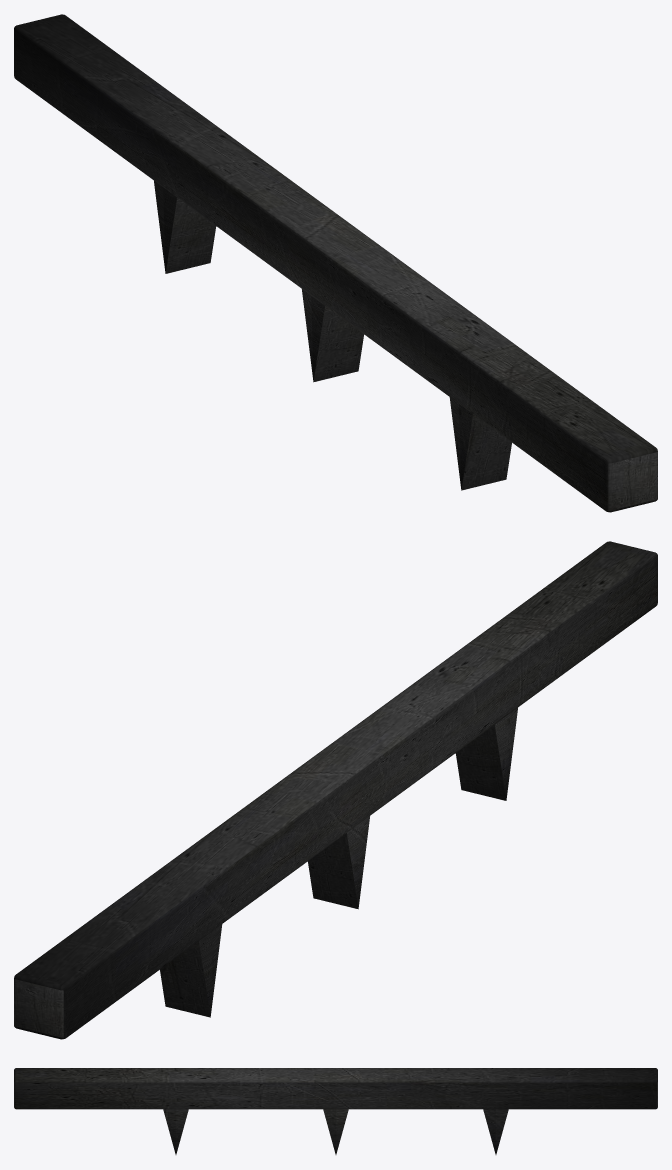
File: assets_barreraOptim.fbx
3 views of the same model, one above another, from view 1: azimuth 30°, elevation 25°; view 2: azimuth 150°, elevation 25°; view 3: azimuth 270°, elevation 25° (orthographic). The views are drawn at different scales.
Visible parts, largest first — view 1: Barrera Bumper09; view 2: Barrera Bumper09; view 3: Barrera Bumper09.
Boxes of the visible parts, bbox=[...] form: Barrera Bumper09: bbox=[14, 14, 657, 512]; Barrera Bumper09: bbox=[14, 541, 657, 1039]; Barrera Bumper09: bbox=[14, 1068, 657, 1154].
Size of the model in its own units: 9.84 by 25.59 by 197.
